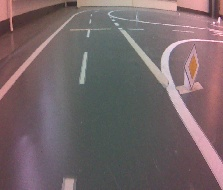priority road sign: (183, 43, 201, 91)
